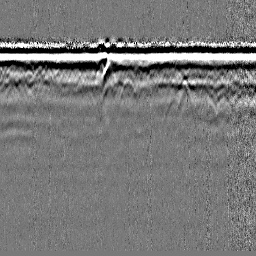cavity: (120, 75, 136, 99)
